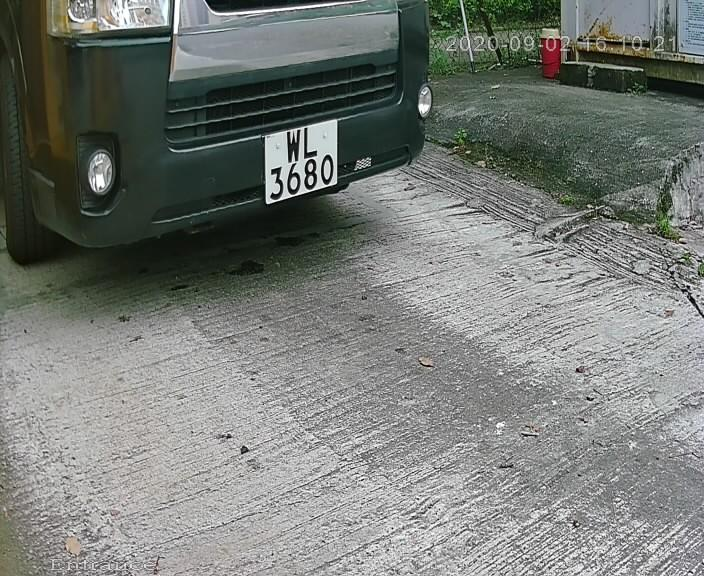Car: (26, 1, 500, 307)
License Plate: (258, 114, 349, 209)
